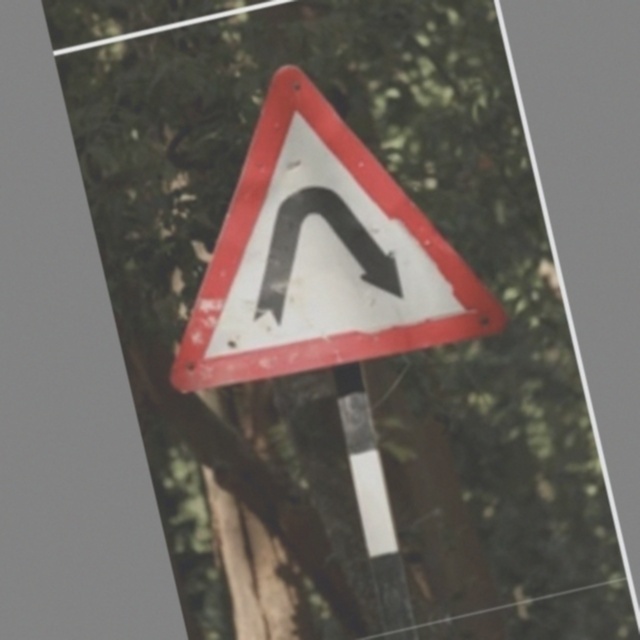Right_Hair_Pin_Bend: (118, 32, 502, 402)
